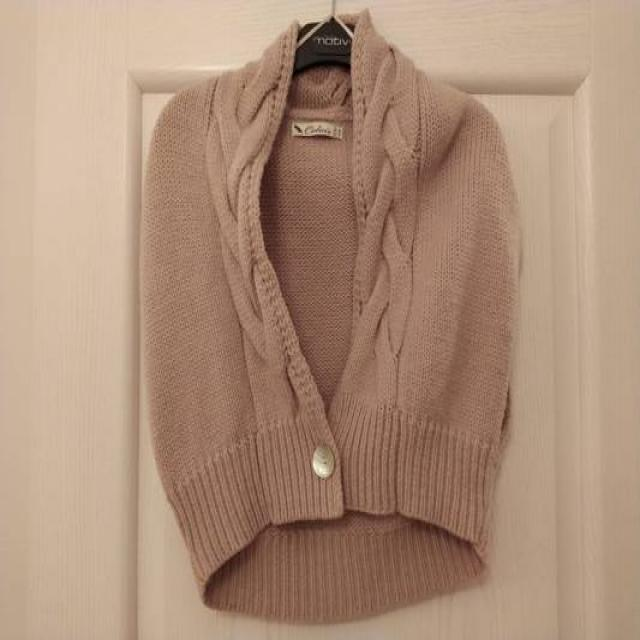Clothes -Biodegradable-: (143, 16, 518, 626)
